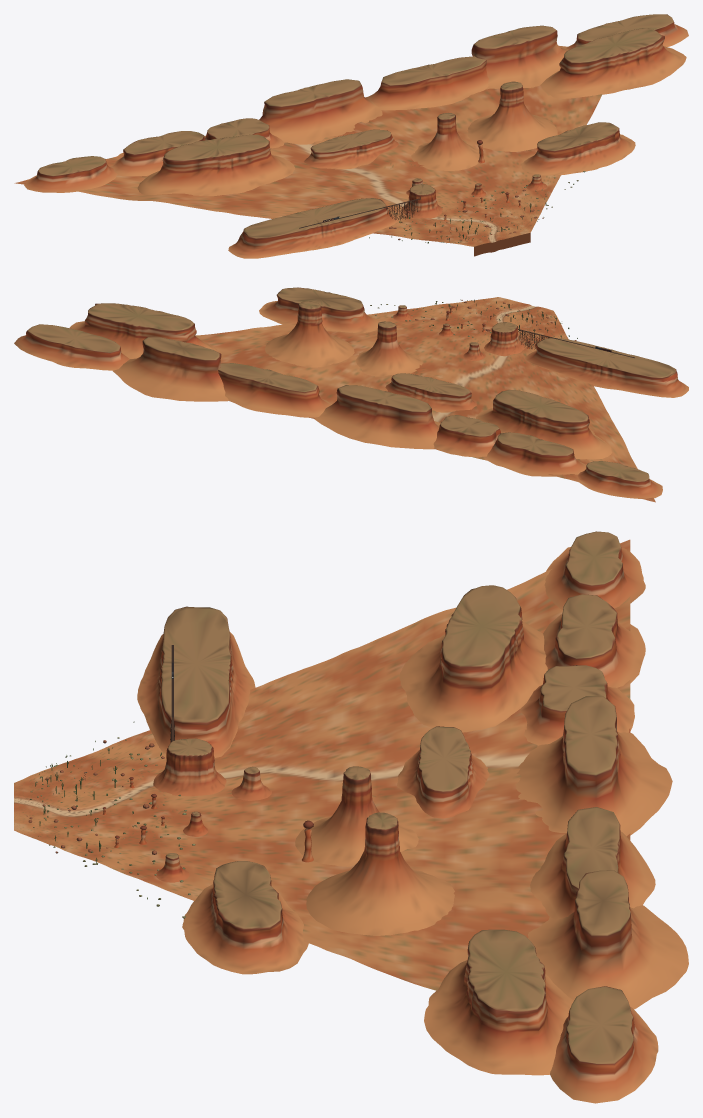
File: backdrop_0.glb
3 renders of one model, top to bottom at view 1: azimuth 30°, elevation 25°; view 2: azimuth 150°, elevation 25°; view 3: azimuth 270°, elevation 25°, orthographic. The views are drawn at different scales.
Parts seen in each view (by area): view 1: mid_desert, far_mesas, mid_mesas, lm_plateaus, mid_buttes, mid_shadows, near_lip, lm_trestle, mid_smallbuttes; view 2: far_mesas, mid_desert, mid_mesas, lm_plateaus, mid_buttes, mid_smallbuttes, mid_shadows, lm_trestle; view 3: mid_desert, far_mesas, mid_mesas, lm_plateaus, mid_buttes, mid_smallbuttes, mid_shadows.
Boxes of the visible parts, x1,y1,x2,y2 form: mid_desert: (14,85,602,246); far_mesas: (24,14,688,192); mid_mesas: (137,28,686,196); lm_plateaus: (228,184,442,258); mid_buttes: (411,81,557,170); mid_shadows: (382,161,518,222); near_lip: (474,233,530,256); lm_trestle: (299,196,421,228); mid_smallbuttes: (406,174,547,197); far_mesas: (14,324,662,498); mid_desert: (195,297,655,502); mid_mesas: (69,287,612,459); lm_plateaus: (484,322,688,397); mid_buttes: (265,301,422,376); mid_smallbuttes: (393,305,485,360); mid_shadows: (415,313,536,380); lm_trestle: (517,326,634,357); mid_desert: (14,539,630,990); far_mesas: (515,531,688,1103); mid_mesas: (182,585,573,1075); lm_plateaus: (137,606,255,796); mid_buttes: (295,766,454,935); mid_smallbuttes: (156,766,271,882); mid_shadows: (103,768,382,846).
Bounding box in the file's own units: 2143 × 181 × 1089.
